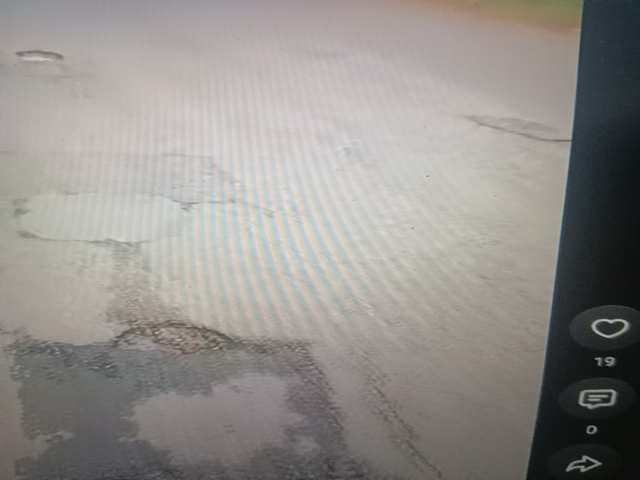pothole: (107, 403, 321, 480), (537, 403, 640, 480)
